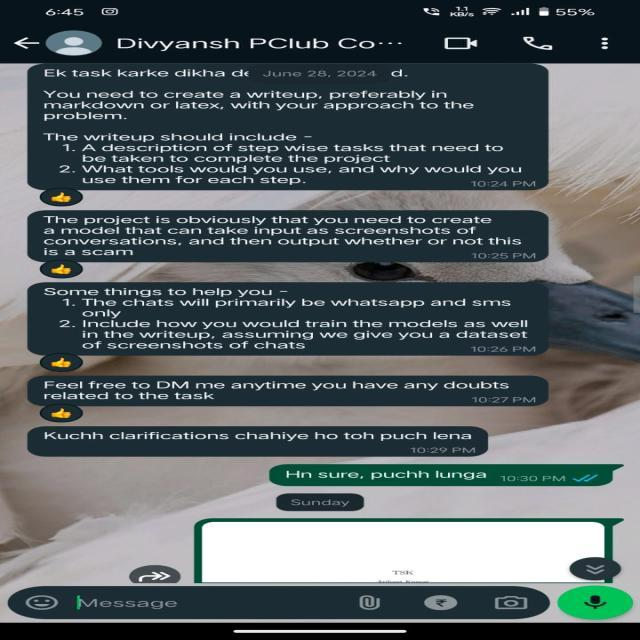scam: (36, 64, 536, 189), (41, 285, 547, 354), (32, 214, 538, 258), (39, 374, 532, 408), (34, 426, 489, 454)
